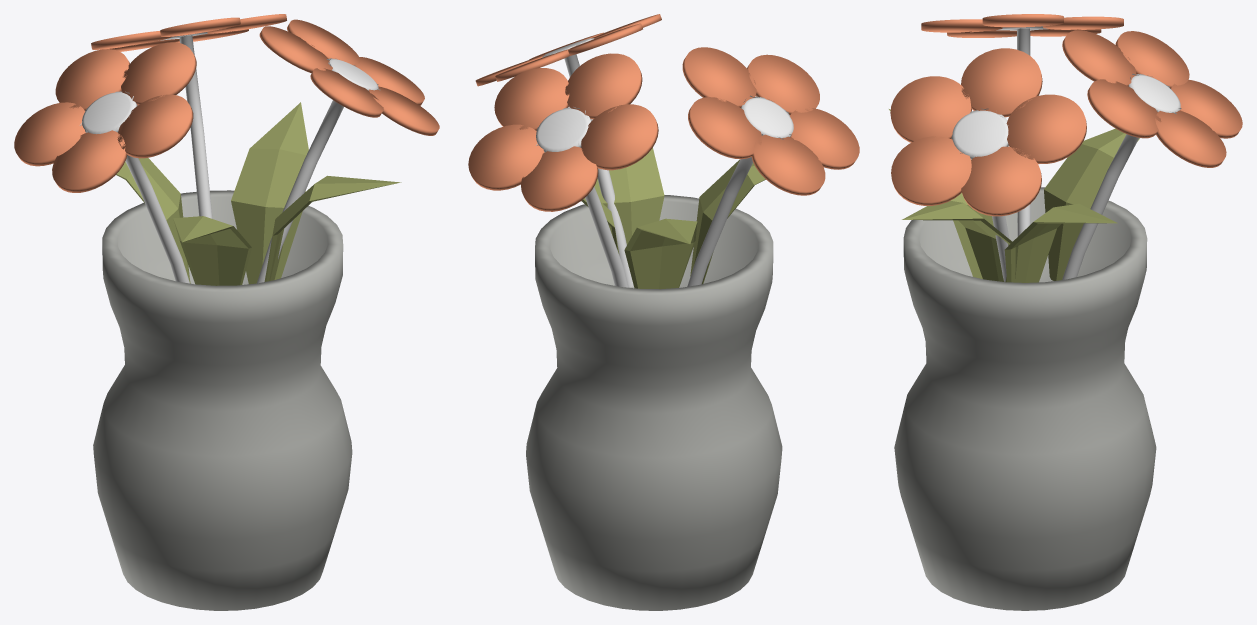
The model's file is Assets.fbx_Vase_Lachs.fbx.
3 renders of one model, left to right at view 1: azimuth 30°, elevation 25°; view 2: azimuth 150°, elevation 25°; view 3: azimuth 270°, elevation 25°, orthographic.
Parts seen in each view (by area): view 1: Cylinder.001, Blatt.004, Blatt.005, Cylinder.012, Blume.005, Cylinder.013, Cylinder.016, Cylinder.014, Cylinder.015, Blume.004, Blatt.007, Blume.003 (+9 smaller); view 2: Cylinder.001, Blatt.006, Cylinder.007, Cylinder.009, Cylinder.011, Cylinder.008, Cylinder.010, Blume.005, Blatt.007, Cylinder.014, Blume.003, Cylinder.015 (+7 smaller); view 3: Cylinder.001, Blatt.006, Cylinder.004, Cylinder.002, Cylinder.003, Cylinder.006, Cylinder.005, Blatt.004, Blume.003, Blatt.007, Cylinder.009, Cylinder.010 (+9 smaller).
Boxes of the visible parts, bbox=[...] form: Cylinder.001: bbox=[93, 190, 352, 610]; Blatt.004: bbox=[231, 102, 308, 284]; Blatt.005: bbox=[173, 216, 251, 285]; Cylinder.012: bbox=[117, 94, 193, 158]; Blume.005: bbox=[79, 91, 189, 283]; Cylinder.013: bbox=[52, 130, 127, 192]; Cylinder.016: bbox=[121, 42, 196, 105]; Cylinder.014: bbox=[14, 102, 85, 166]; Cylinder.015: bbox=[55, 49, 129, 110]; Blume.004: bbox=[256, 58, 380, 283]; Blatt.007: bbox=[264, 175, 401, 281]; Blume.003: bbox=[160, 31, 212, 218]; Cylinder.001: bbox=[526, 195, 782, 610]; Blatt.006: bbox=[624, 218, 697, 289]; Cylinder.007: bbox=[581, 104, 658, 170]; Cylinder.009: bbox=[468, 124, 544, 190]; Cylinder.011: bbox=[565, 53, 642, 119]; Cylinder.008: bbox=[521, 146, 598, 211]; Cylinder.010: bbox=[494, 68, 569, 130]; Blume.005: bbox=[687, 95, 793, 286]; Blatt.007: bbox=[594, 147, 664, 244]; Cylinder.014: bbox=[751, 134, 825, 195]; Blume.003: bbox=[536, 107, 628, 287]; Cylinder.015: bbox=[688, 97, 761, 159]; Cylinder.001: bbox=[894, 187, 1156, 610]; Blatt.006: bbox=[1044, 128, 1139, 280]; Cylinder.004: bbox=[1006, 94, 1086, 163]; Cylinder.002: bbox=[891, 136, 971, 205]; Cylinder.003: bbox=[961, 146, 1041, 216]; Cylinder.006: bbox=[961, 48, 1042, 117]; Cylinder.005: bbox=[890, 76, 971, 142]; Blatt.004: bbox=[1004, 203, 1117, 282]; Blume.003: bbox=[1062, 73, 1181, 279]; Blatt.007: bbox=[902, 200, 1018, 282]; Cylinder.009: bbox=[1155, 110, 1226, 167]; Cylinder.010: bbox=[1087, 79, 1161, 138].
Size of the model in its own units: 16.5 by 22.64 by 13.57.
